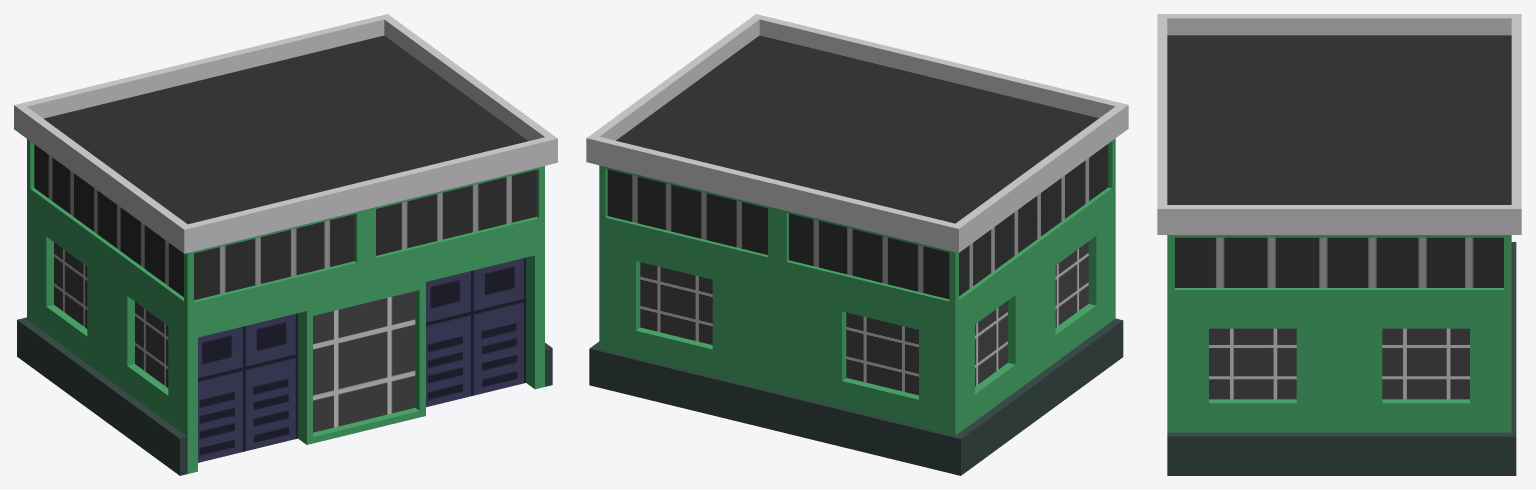
File: building14b.FBX
The picture shows the model from 3 angles, left to right: view 1: azimuth 30°, elevation 25°; view 2: azimuth 150°, elevation 25°; view 3: azimuth 270°, elevation 25°; orthographic projection. The views are drawn at different scales.
Visible parts, largest first — view 1: building14b; view 2: building14b; view 3: building14b.
Boxes of the visible parts, x1=… form: building14b: x1=14, y1=14, x2=557, y2=475; building14b: x1=586, y1=14, x2=1128, y2=475; building14b: x1=1157, y1=14, x2=1521, y2=475.
Size of the model in its own units: 17.35 by 11.08 by 13.69.
